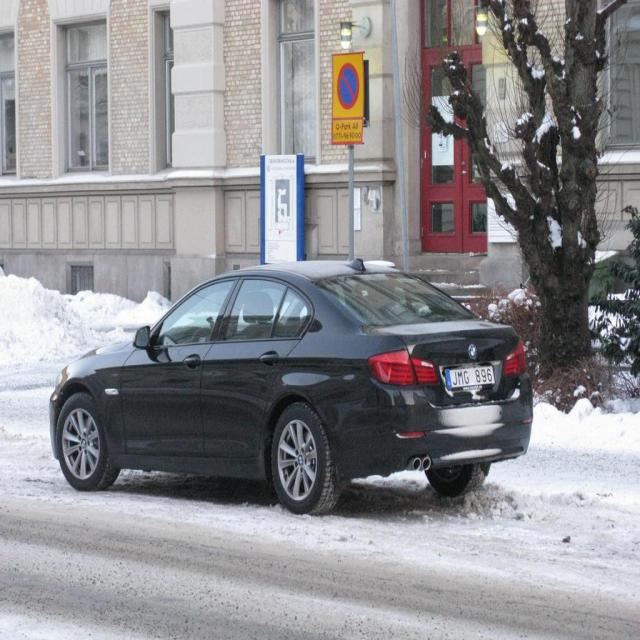car: (45, 253, 534, 515)
